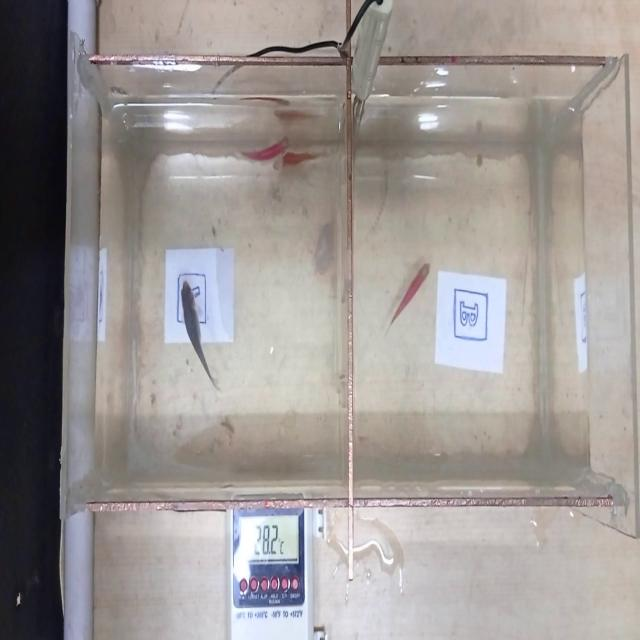Fish A1: (176, 278, 229, 401)
Fish A2: (230, 134, 300, 166)
Fish A3: (281, 144, 334, 180)
Fish B: (383, 253, 438, 360)
